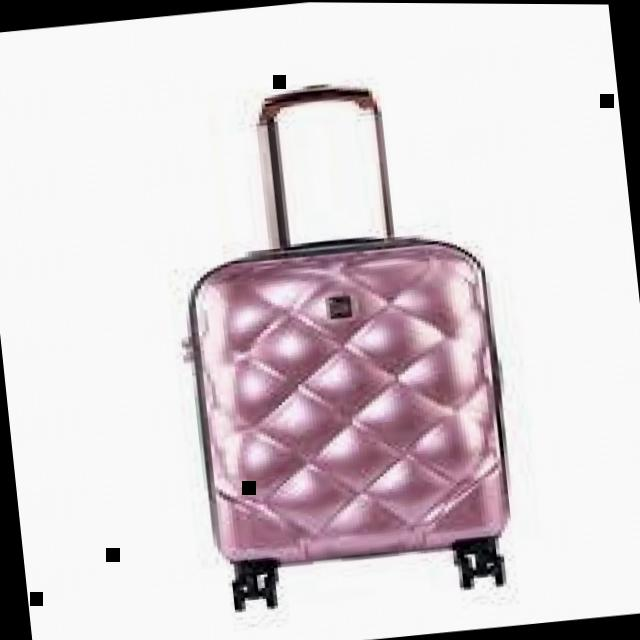luggage: (174, 214, 528, 583)
